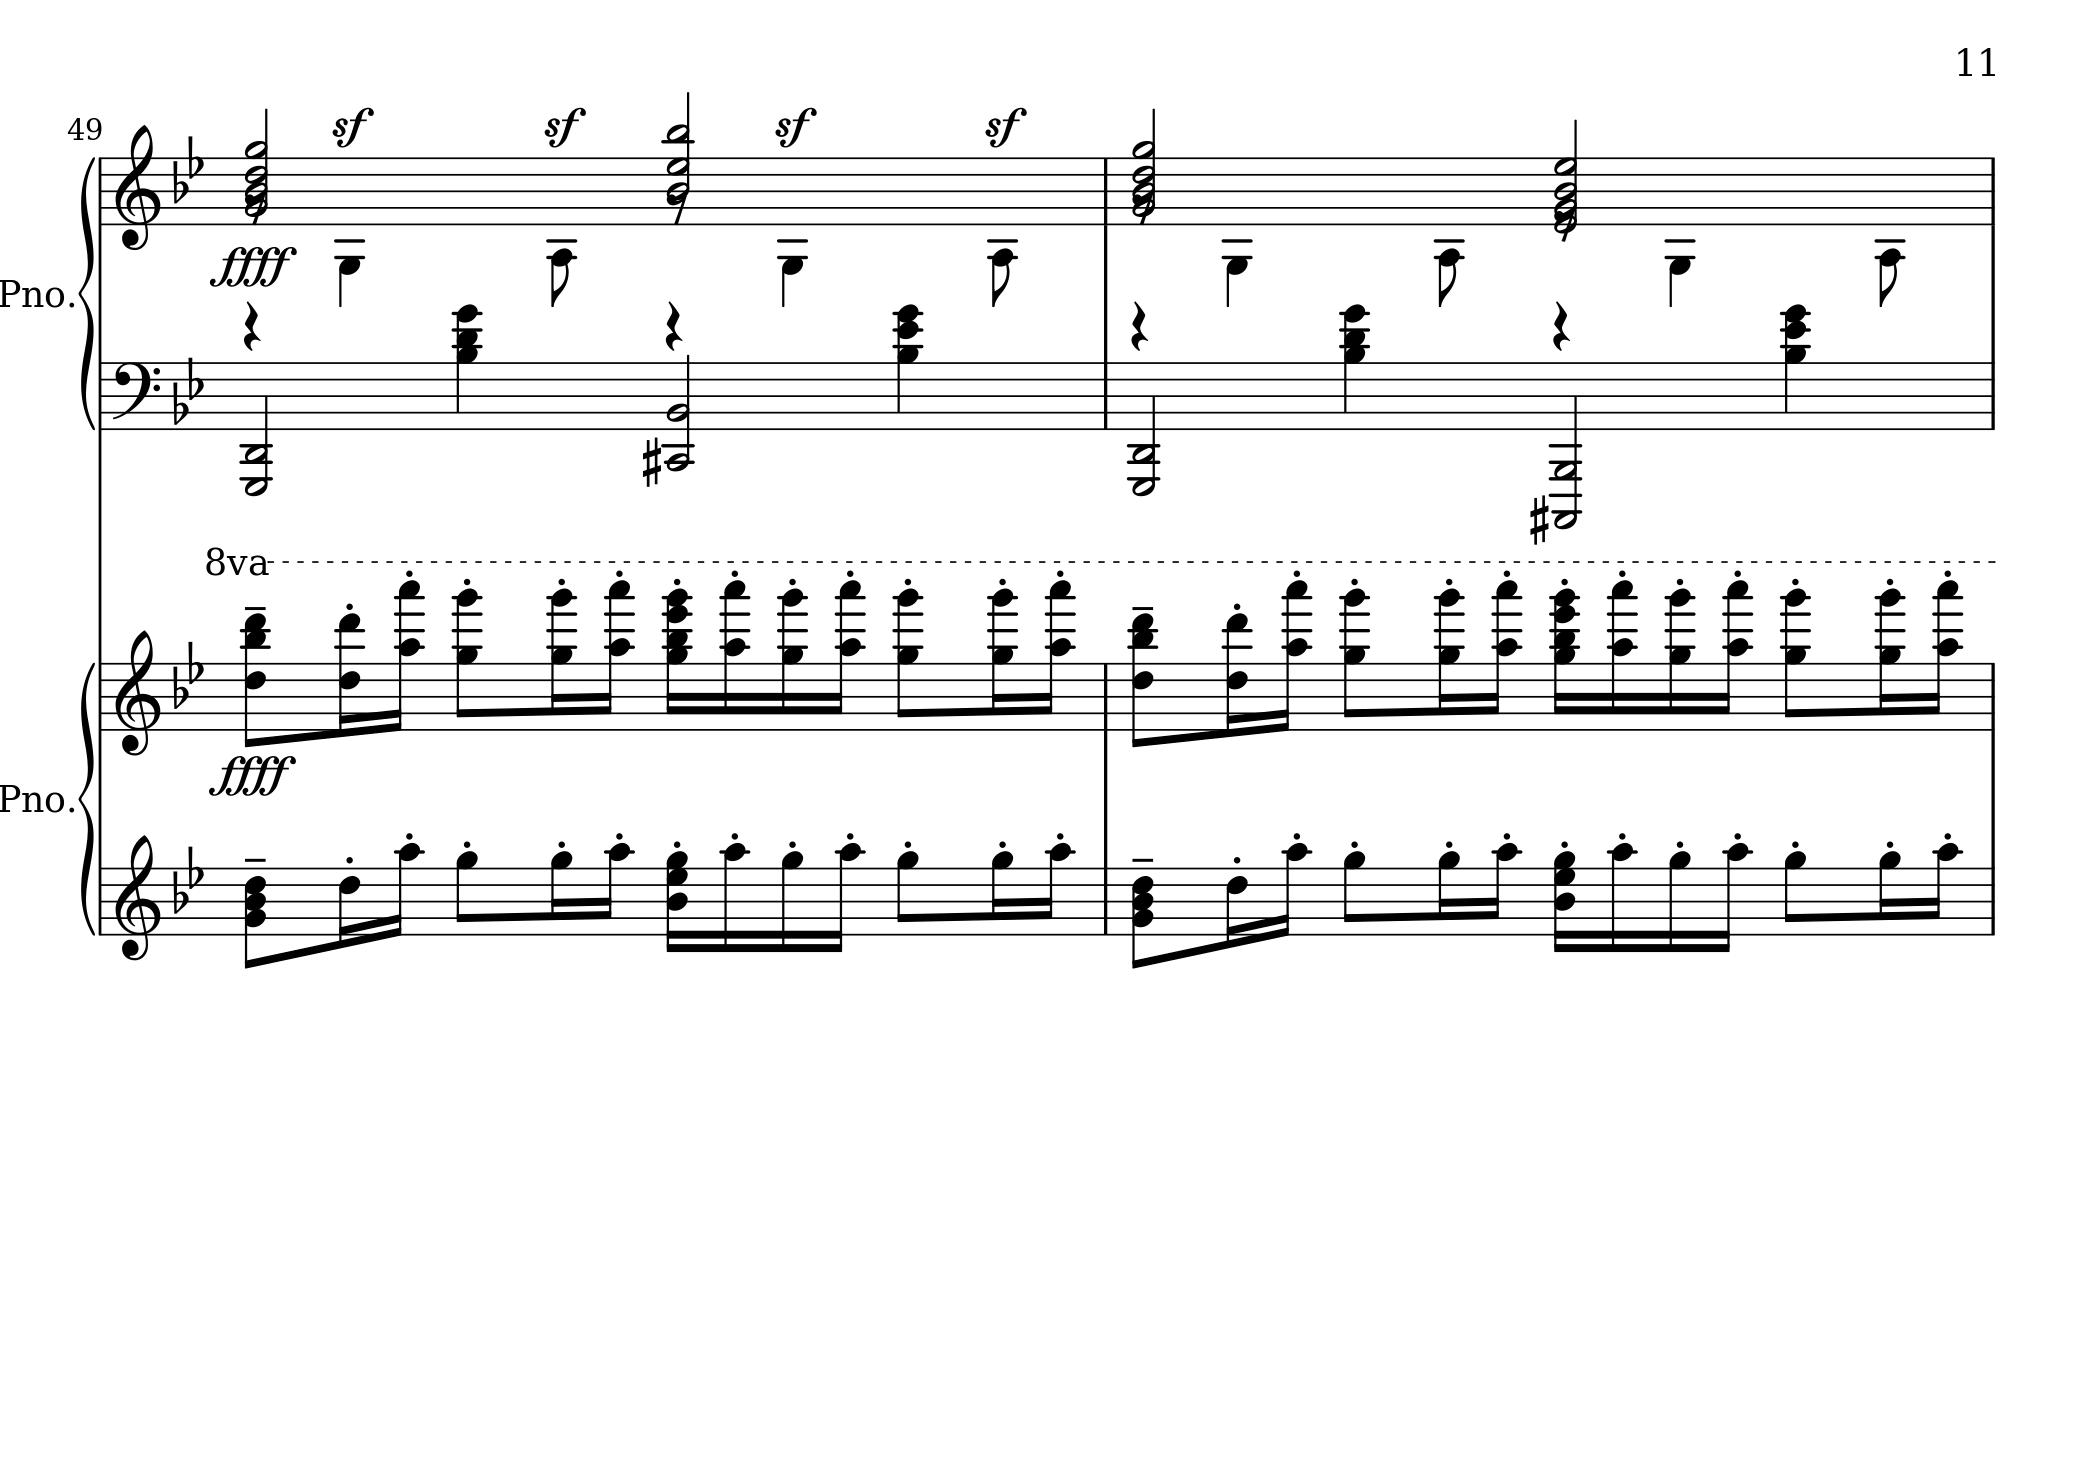1: (1955, 43, 1974, 79), (1979, 43, 1996, 79)
16_10: (827, 841, 865, 955), (1714, 841, 1753, 954), (388, 841, 423, 939), (1275, 841, 1311, 939), (1927, 841, 1963, 938), (1607, 841, 1636, 955), (719, 841, 748, 954), (599, 841, 631, 939), (1487, 841, 1519, 939), (1040, 841, 1072, 938)
16_10_17: (1929, 579, 1964, 732), (1605, 579, 1641, 732), (1488, 579, 1524, 732), (1041, 579, 1077, 732), (832, 580, 867, 734), (715, 579, 750, 732), (1275, 577, 1311, 729), (599, 577, 634, 729), (389, 577, 425, 729), (1721, 579, 1754, 732)
16_6: (336, 866, 362, 949), (1226, 866, 1250, 947)
16_6_13: (335, 611, 364, 736), (1224, 612, 1251, 737)
16_9: (1666, 848, 1692, 955), (779, 849, 804, 954), (1436, 848, 1460, 938), (990, 849, 1014, 938), (1878, 849, 1902, 938), (550, 848, 572, 938)
16_9_16: (546, 587, 575, 732), (779, 588, 807, 734), (987, 587, 1016, 732), (1666, 588, 1695, 732), (1436, 588, 1463, 732), (1876, 588, 1903, 732)
16_th: (662, 583, 694, 736), (1549, 585, 1580, 732), (1549, 846, 1580, 954), (662, 846, 691, 954)
2_-4_2: (662, 354, 695, 471)
2_-7_-3: (1126, 361, 1162, 498), (244, 361, 274, 497)
2_4th: (1552, 119, 1580, 245), (244, 107, 271, 229), (1131, 107, 1158, 228)
2_th: (662, 91, 695, 228)
4: (66, 114, 85, 143)
4_-5: (333, 157, 365, 309), (777, 155, 809, 308), (1665, 155, 1695, 308), (1222, 155, 1251, 308)
4_th: (1338, 300, 1371, 431), (891, 300, 924, 430), (450, 300, 482, 431), (1778, 300, 1810, 430)
8_-4: (985, 154, 1019, 308), (545, 155, 578, 308), (1432, 154, 1464, 308), (1875, 155, 1907, 308)
8_9: (453, 849, 479, 938), (1782, 849, 1807, 938), (896, 849, 920, 938), (1343, 849, 1367, 938)
8_9_16: (1341, 588, 1371, 736), (892, 587, 923, 734), (450, 585, 481, 732), (1778, 587, 1809, 732)
8_th: (1126, 609, 1158, 750), (240, 611, 271, 752), (244, 864, 271, 971), (1131, 867, 1157, 970)
9: (85, 114, 103, 143)
B_F: (171, 636, 205, 708), (171, 133, 205, 204), (171, 843, 205, 914), (171, 354, 203, 425)
Brace: (75, 659, 98, 934), (77, 151, 98, 430)
Fclef: (109, 359, 160, 431)
Gclef: (112, 122, 160, 252), (114, 628, 160, 757), (114, 833, 160, 962)
Pno: (2, 276, 66, 313), (2, 781, 66, 817)
Rests4: (240, 300, 263, 353), (1549, 300, 1572, 353), (663, 300, 684, 353), (1128, 300, 1149, 353)
Sharp: (639, 434, 662, 487), (1528, 492, 1549, 545)
Single_barline: (1097, 361, 1113, 430), (1097, 157, 1113, 223), (1983, 362, 1999, 428), (1097, 664, 1113, 729), (1985, 664, 2001, 729), (1097, 867, 1113, 933), (1985, 869, 2001, 934), (1985, 159, 2001, 223), (95, 660, 109, 729), (95, 157, 107, 224), (95, 362, 107, 428), (95, 869, 107, 934)
ffff: (205, 752, 300, 798), (210, 242, 295, 289)
sf: (543, 106, 586, 146), (332, 106, 373, 146), (774, 106, 815, 146), (984, 106, 1025, 146)
